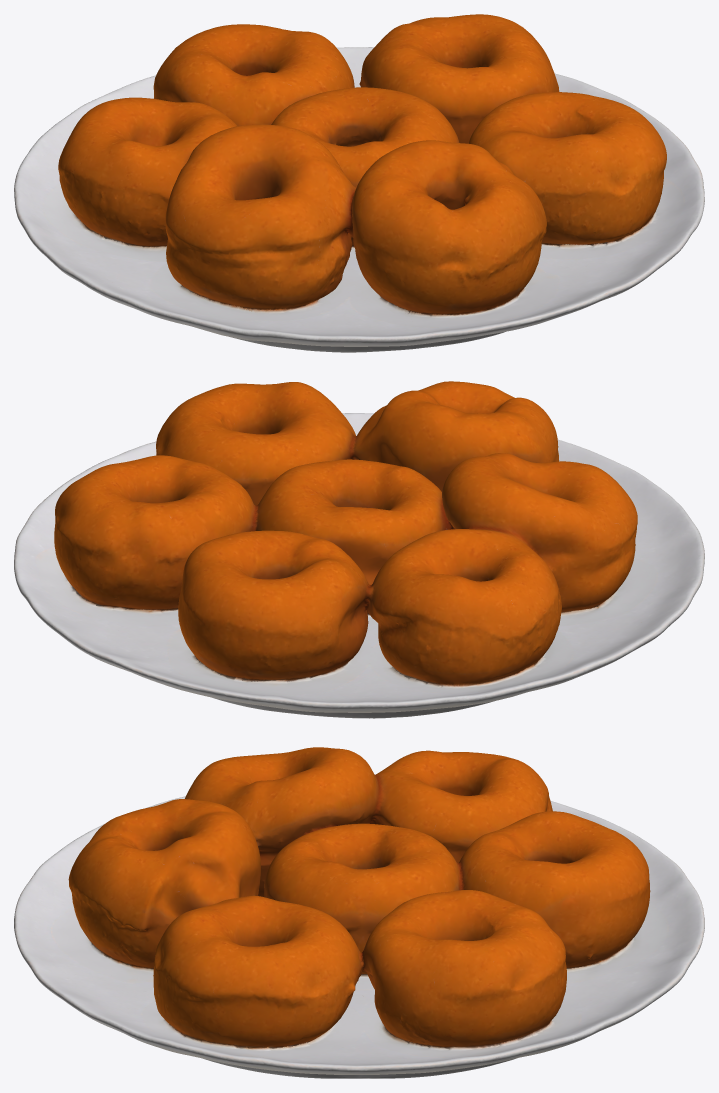
Rendered from kuih-keria.glb.
3 views of the same model, one above another, from view 1: azimuth 30°, elevation 25°; view 2: azimuth 150°, elevation 25°; view 3: azimuth 270°, elevation 25° (orthographic).
Bounding box in the file's own units: 1.86 × 0.4694 × 1.86.
1 material, 1 textured.
